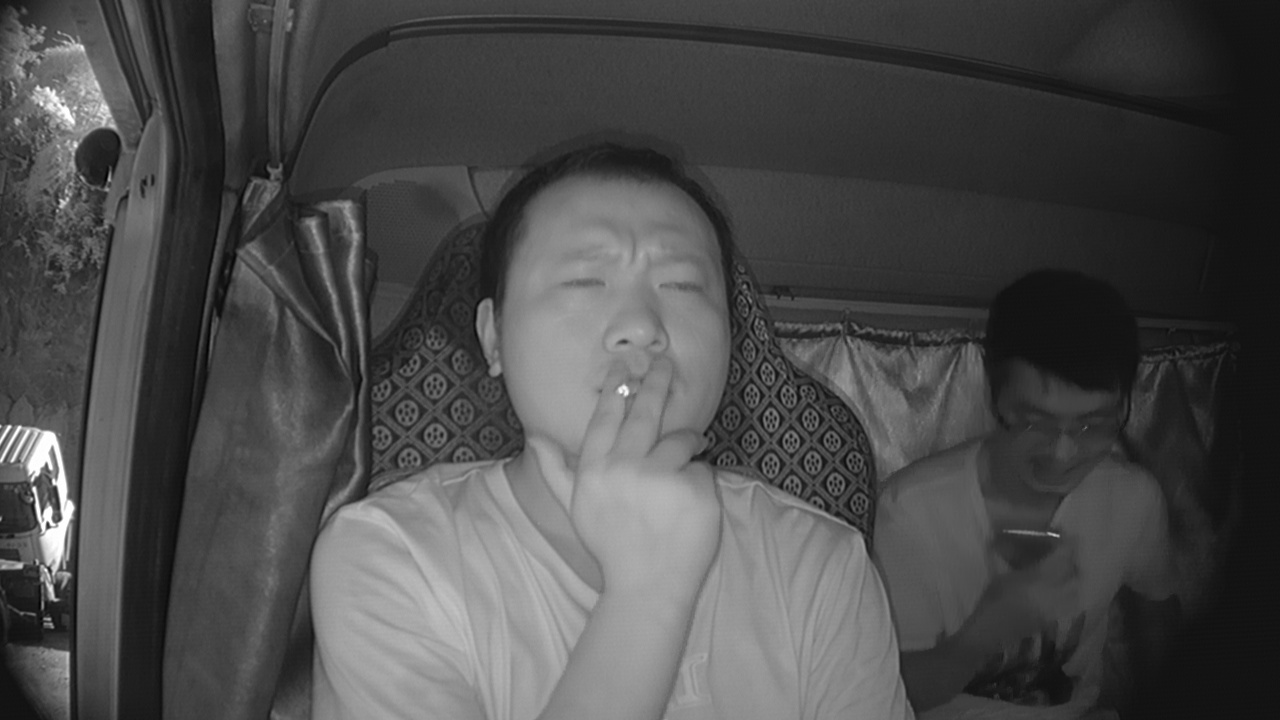hand: (564, 360, 723, 532)
